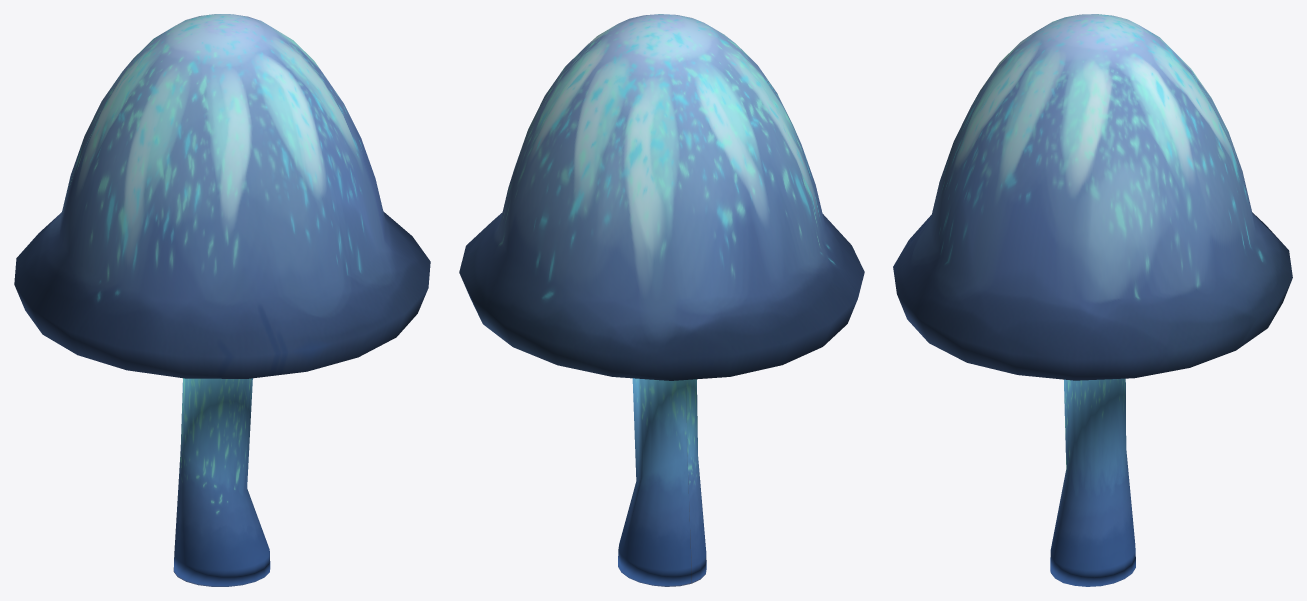
The model's file is shroom.fbx.
3 renders of one model, left to right at view 1: azimuth 30°, elevation 25°; view 2: azimuth 150°, elevation 25°; view 3: azimuth 270°, elevation 25°, orthographic.
Parts seen in each view (by area): view 1: polySurface227; view 2: polySurface227; view 3: polySurface227.
Part boxes in pixels (x1,y1,x2,y2): polySurface227: (14, 14, 430, 586); polySurface227: (459, 14, 864, 586); polySurface227: (893, 14, 1292, 586).
Size of the model in its own units: 91.42 by 134 by 88.13.
